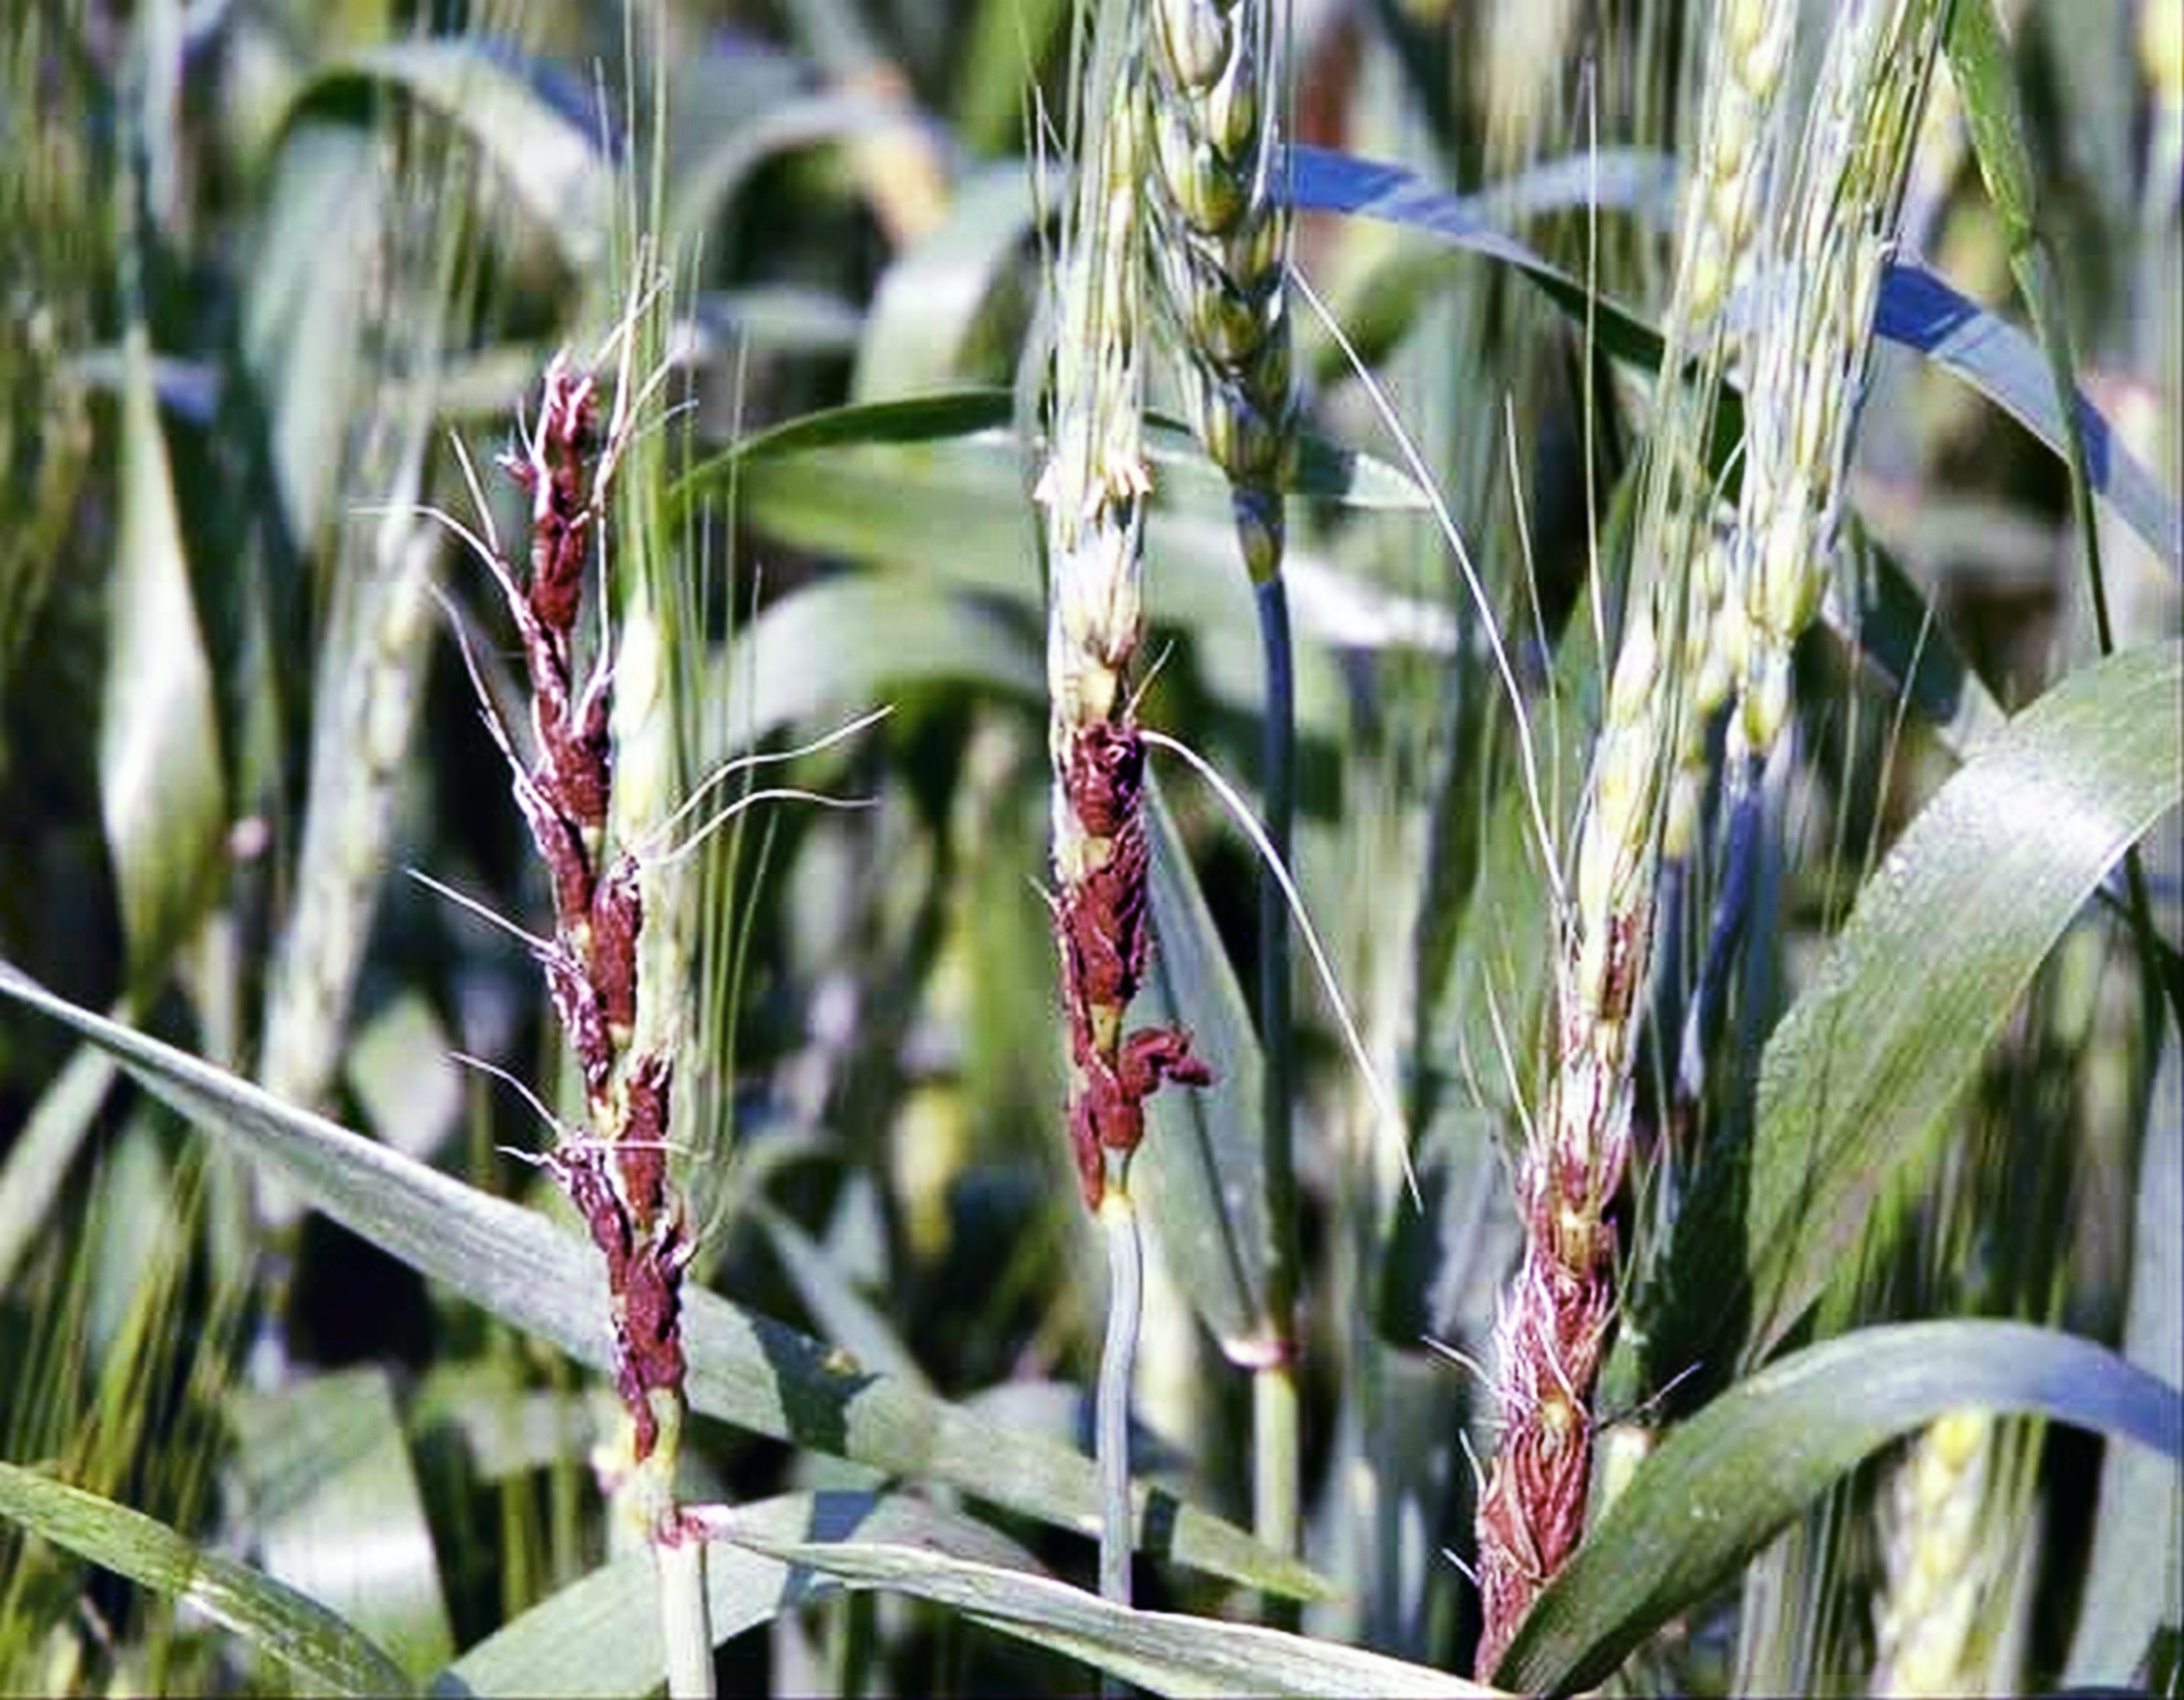Wheat Loose Smut: (1007, 706, 1666, 1588), (452, 358, 739, 1415)
